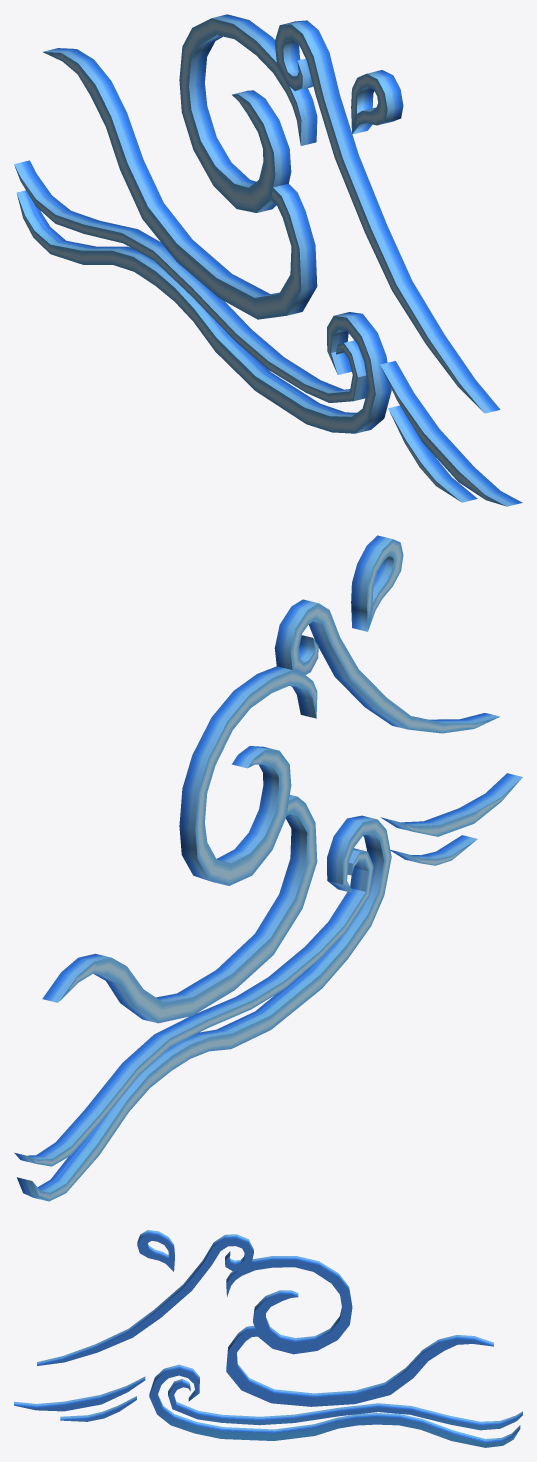
The model's file is my_ariussummer_01_wallacc_03.glb.
The picture shows the model from 3 angles, top to bottom: view 1: azimuth 30°, elevation 25°; view 2: azimuth 150°, elevation 25°; view 3: azimuth 270°, elevation 25°; orthographic projection. The views are drawn at different scales.
Visible parts, largest first — view 1: my_ariussummer_01_wallacc_03; view 2: my_ariussummer_01_wallacc_03; view 3: my_ariussummer_01_wallacc_03.
Boxes of the visible parts, box(x1,y1,x2,y2) form: my_ariussummer_01_wallacc_03: box(14, 14, 522, 506); my_ariussummer_01_wallacc_03: box(14, 535, 522, 1201); my_ariussummer_01_wallacc_03: box(14, 1230, 522, 1447).
Size of the model in its own units: 0.000199 by 0.00497 by 0.0107.
1 material, 1 textured.
